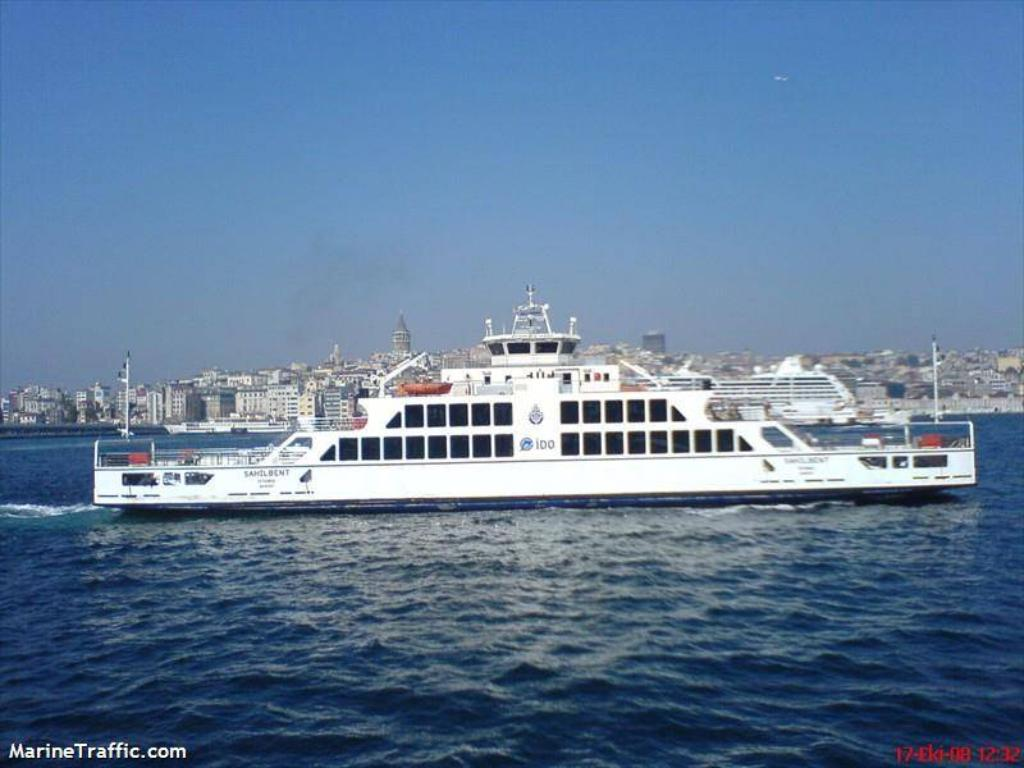PassengerShip: (82, 273, 982, 509)
